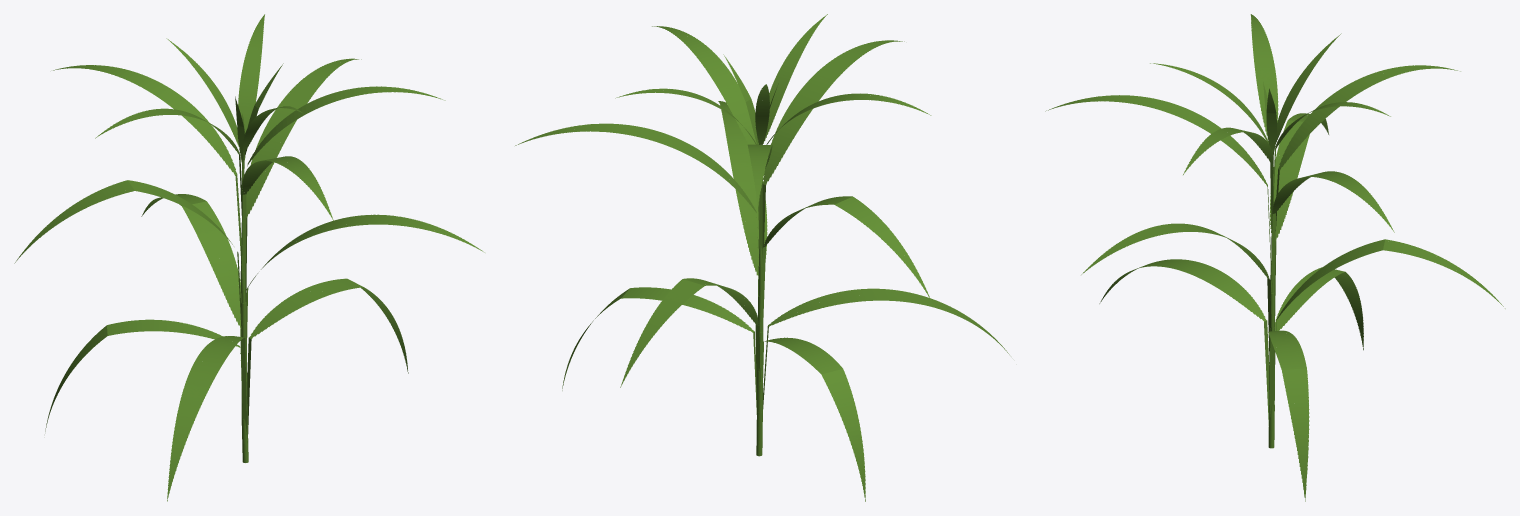
The model's file is maize_005_day_095.dae.
The picture shows the model from 3 angles, left to right: view 1: azimuth 30°, elevation 25°; view 2: azimuth 150°, elevation 25°; view 3: azimuth 270°, elevation 25°; orthographic projection. The views are drawn at different scales.
Visible parts, largest first — view 1: node; view 2: node; view 3: node.
Part boxes in pixels (left/top/right/bottom): node: left=14, top=14, right=484, bottom=501; node: left=515, top=14, right=1009, bottom=501; node: left=1045, top=14, right=1505, bottom=501.
Size of the model in its own units: 1.42 by 1.45 by 1.54.
1 material, 1 textured.
